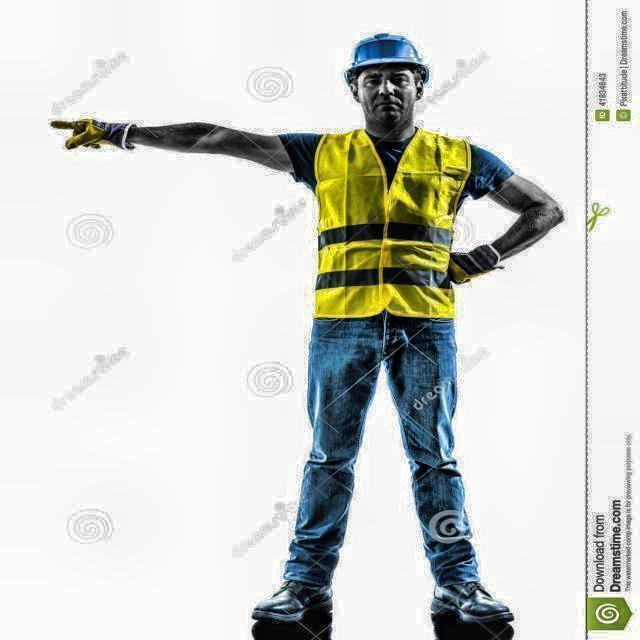safety_helmet: (337, 18, 436, 97)
safety_jacket: (298, 121, 470, 335)
